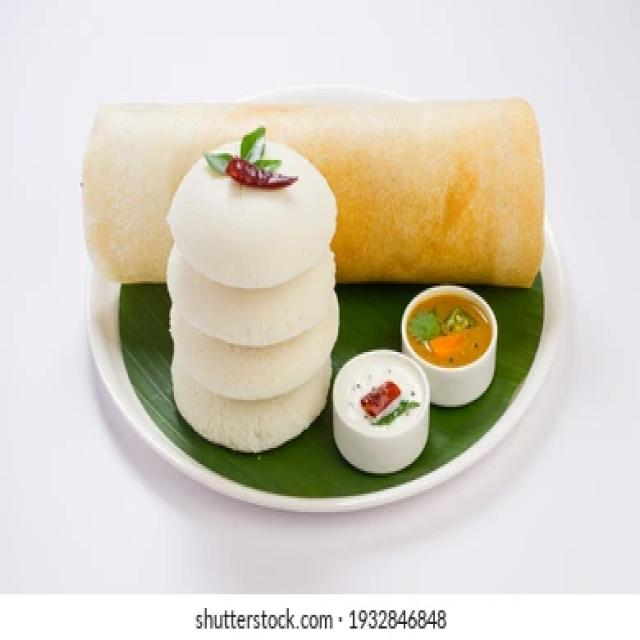DOSA: (89, 100, 543, 287)
IDLI: (173, 146, 341, 293), (171, 347, 331, 461), (167, 299, 340, 403), (168, 254, 335, 352)
